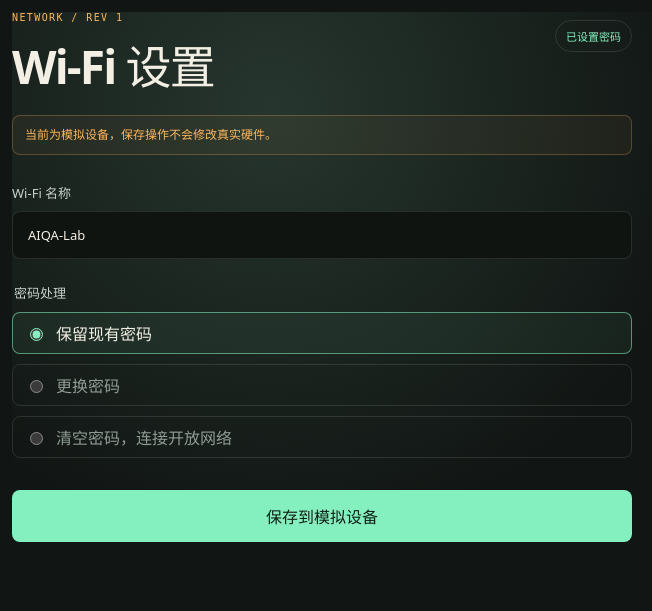
Test case: WifiSettings › reloads the latest device config after a revision conflict
Replace the text in the field labelled "Wi-Fi 名称" with "stale-local-edit": {"x": 322, "y": 235} [12,211,632,259]
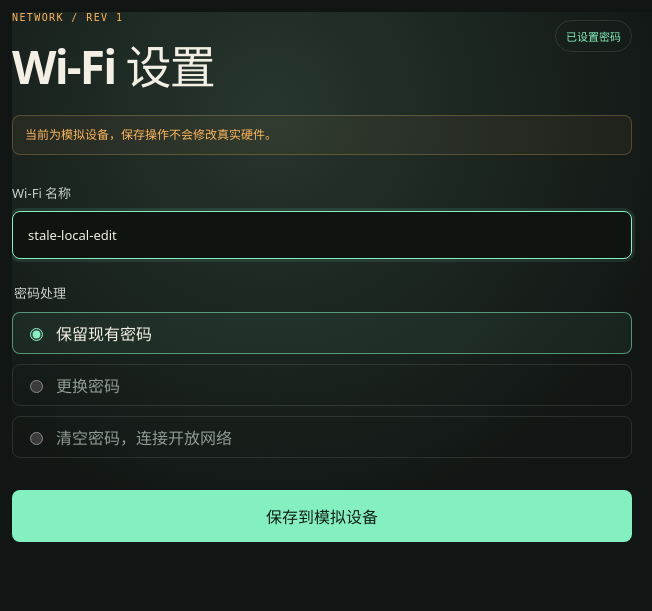
Click the button "保存到模拟设备": {"x": 322, "y": 516} [12,490,632,542]
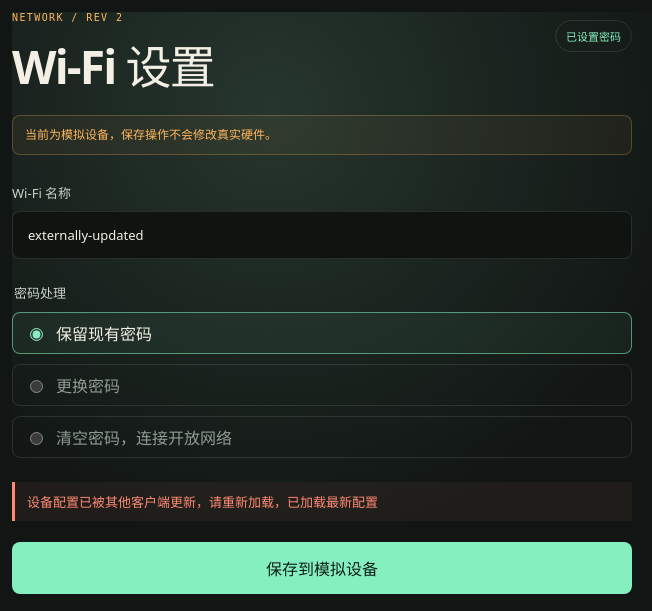
Result: the message shows "已加载最新配置" at [27,493,378,511]
Result: the field showing "externally-updated" is shown at [12,211,632,259]
